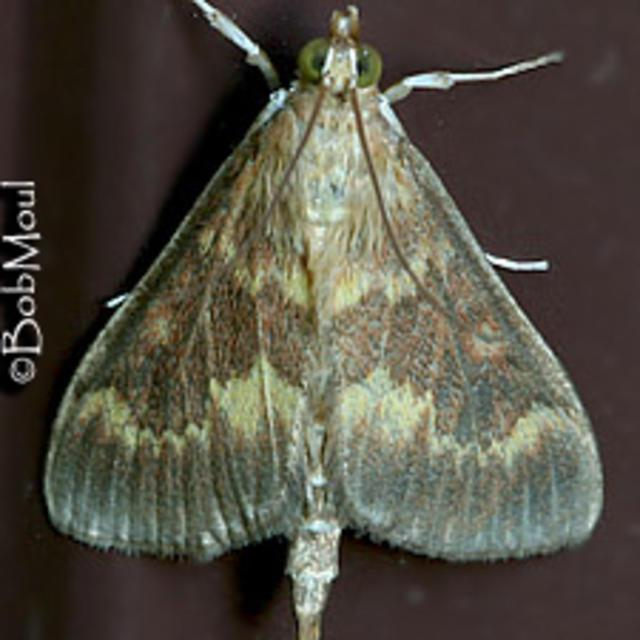cornborer-Adult-: (38, 1, 610, 608)
